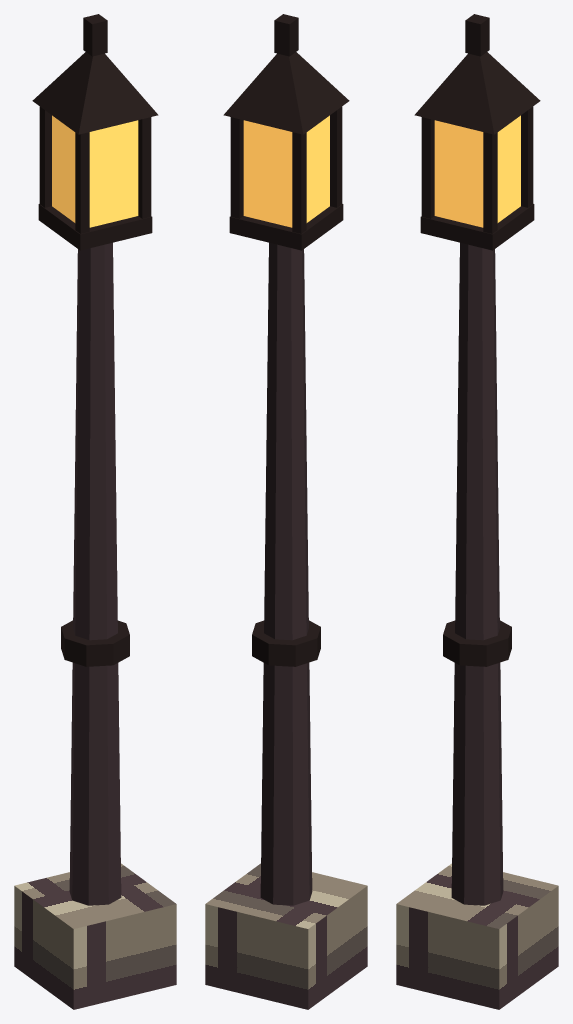
File: lamp_post.glb
3 views of the same model, side by side, from view 1: azimuth 30°, elevation 25°; view 2: azimuth 150°, elevation 25°; view 3: azimuth 330°, elevation 25° (orthographic).
Visible parts, largest first — view 1: lamp_post; view 2: lamp_post; view 3: lamp_post.
Boxes of the visible parts, x1,y1,x2,y2 form: lamp_post: [14, 14, 176, 1009]; lamp_post: [205, 14, 367, 1009]; lamp_post: [396, 14, 558, 1009].
Bounding box in the file's own units: 0.4 × 3.55 × 0.4.
3 materials, 1 textured.
